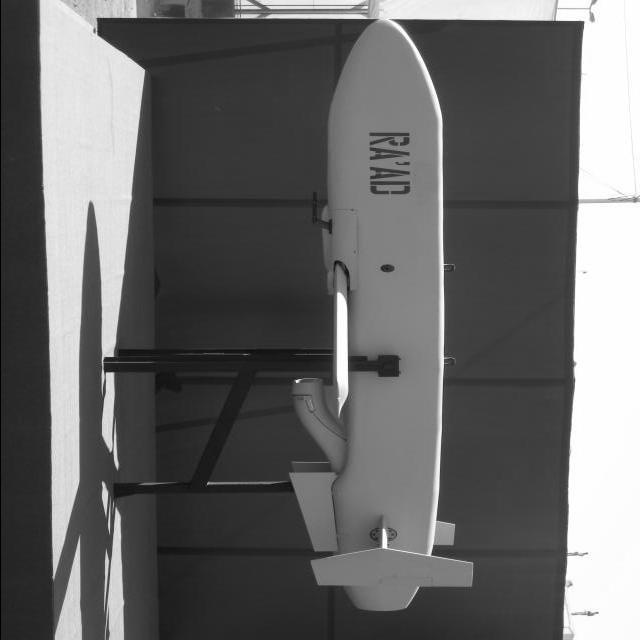Missile: (295, 6, 467, 617)
